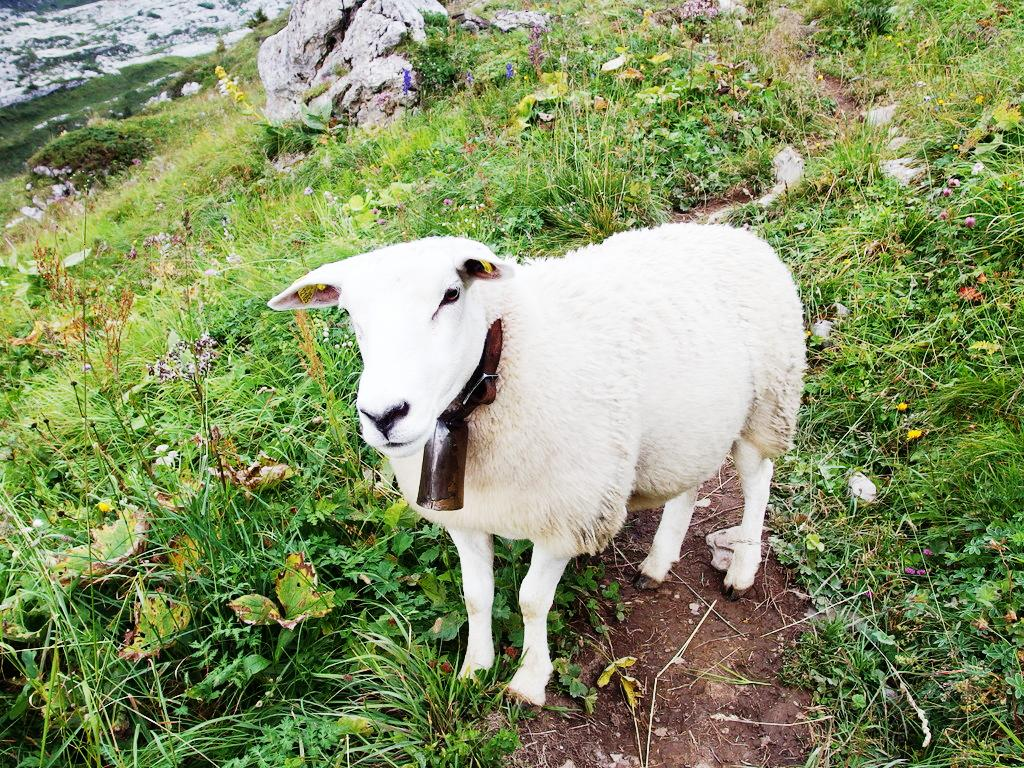Sheep: (266, 220, 816, 714)
